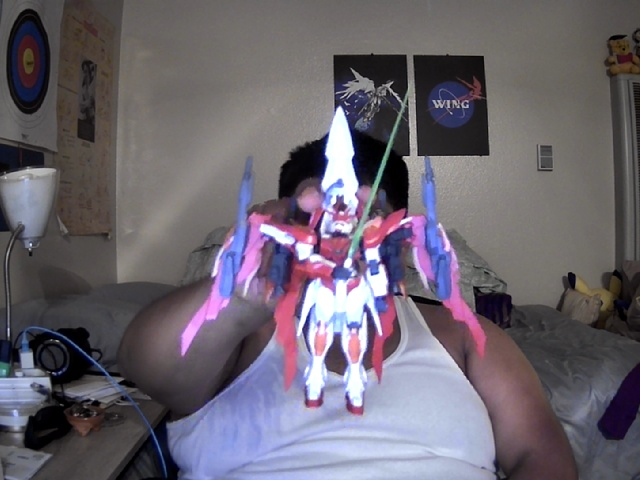Honoo: (180, 106, 488, 416)
